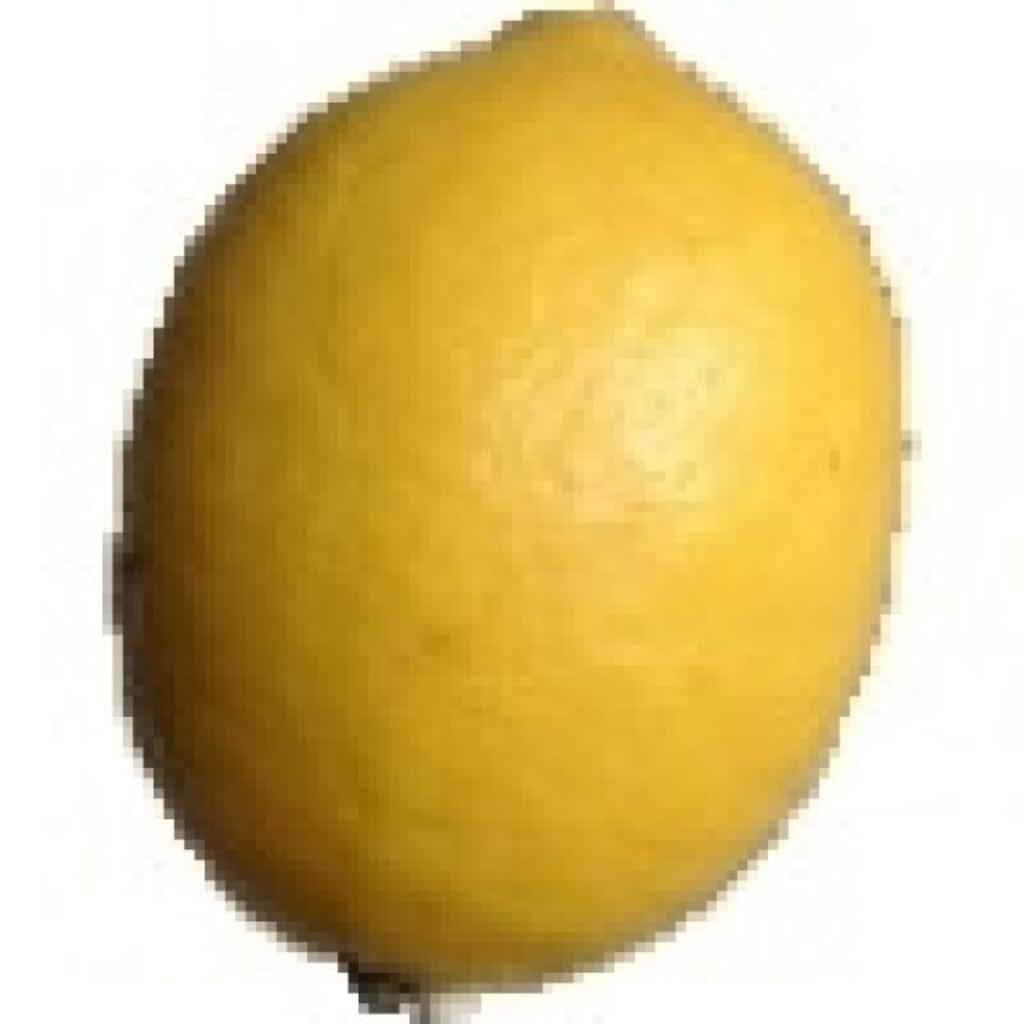lemon: (122, 10, 900, 1007)
